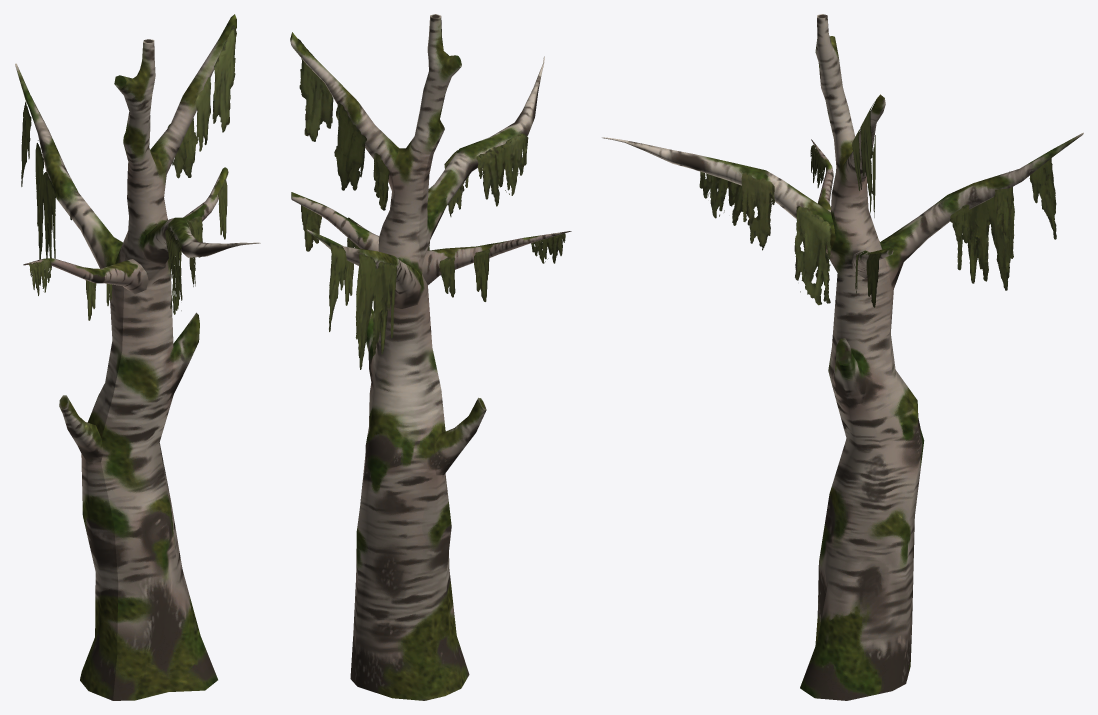
The model's file is birch_bare01.fbx.
3 renders of one model, left to right at view 1: azimuth 30°, elevation 25°; view 2: azimuth 150°, elevation 25°; view 3: azimuth 270°, elevation 25°, orthographic.
Parts seen in each view (by area): view 1: pCylinder16; view 2: pCylinder16; view 3: pCylinder16.
Boxes of the visible parts, left/top/right/bottom form: pCylinder16: left=15, top=14, right=260, bottom=700; pCylinder16: left=290, top=14, right=571, bottom=700; pCylinder16: left=602, top=14, right=1083, bottom=700.
Bounding box in the file's own units: 3.91 × 9.81 × 6.6.
1 material, 1 textured.
